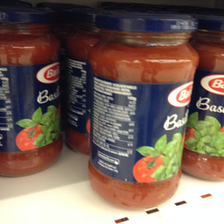tomato_sauce: (85, 14, 199, 211), (1, 11, 64, 179)
